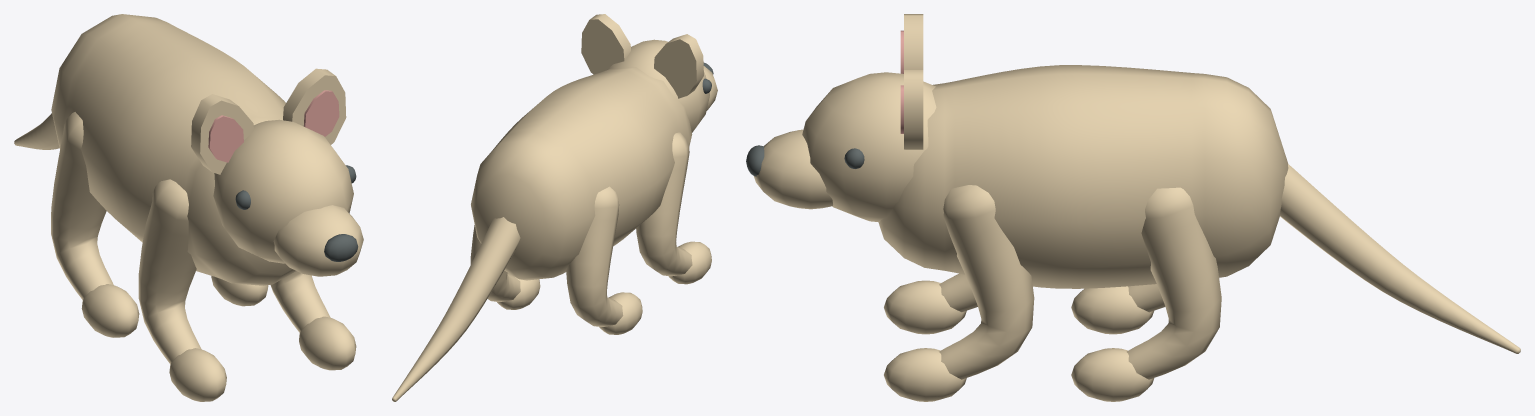
The model's file is outback-and-australian-wildlife-quokka-513d8125__5911.glb.
3 views of the same model, side by side, from view 1: azimuth 30°, elevation 25°; view 2: azimuth 150°, elevation 25°; view 3: azimuth 270°, elevation 25° (orthographic). The views are drawn at different scales.
Visible parts, largest first — view 1: quokka; view 2: quokka; view 3: quokka.
Boxes of the visible parts, x1,y1,x2,y2 form: quokka: (14,14,363,401); quokka: (392,14,717,401); quokka: (746,14,1520,401).
Bounding box in the file's own units: 0.28 × 0.4617 × 1.
